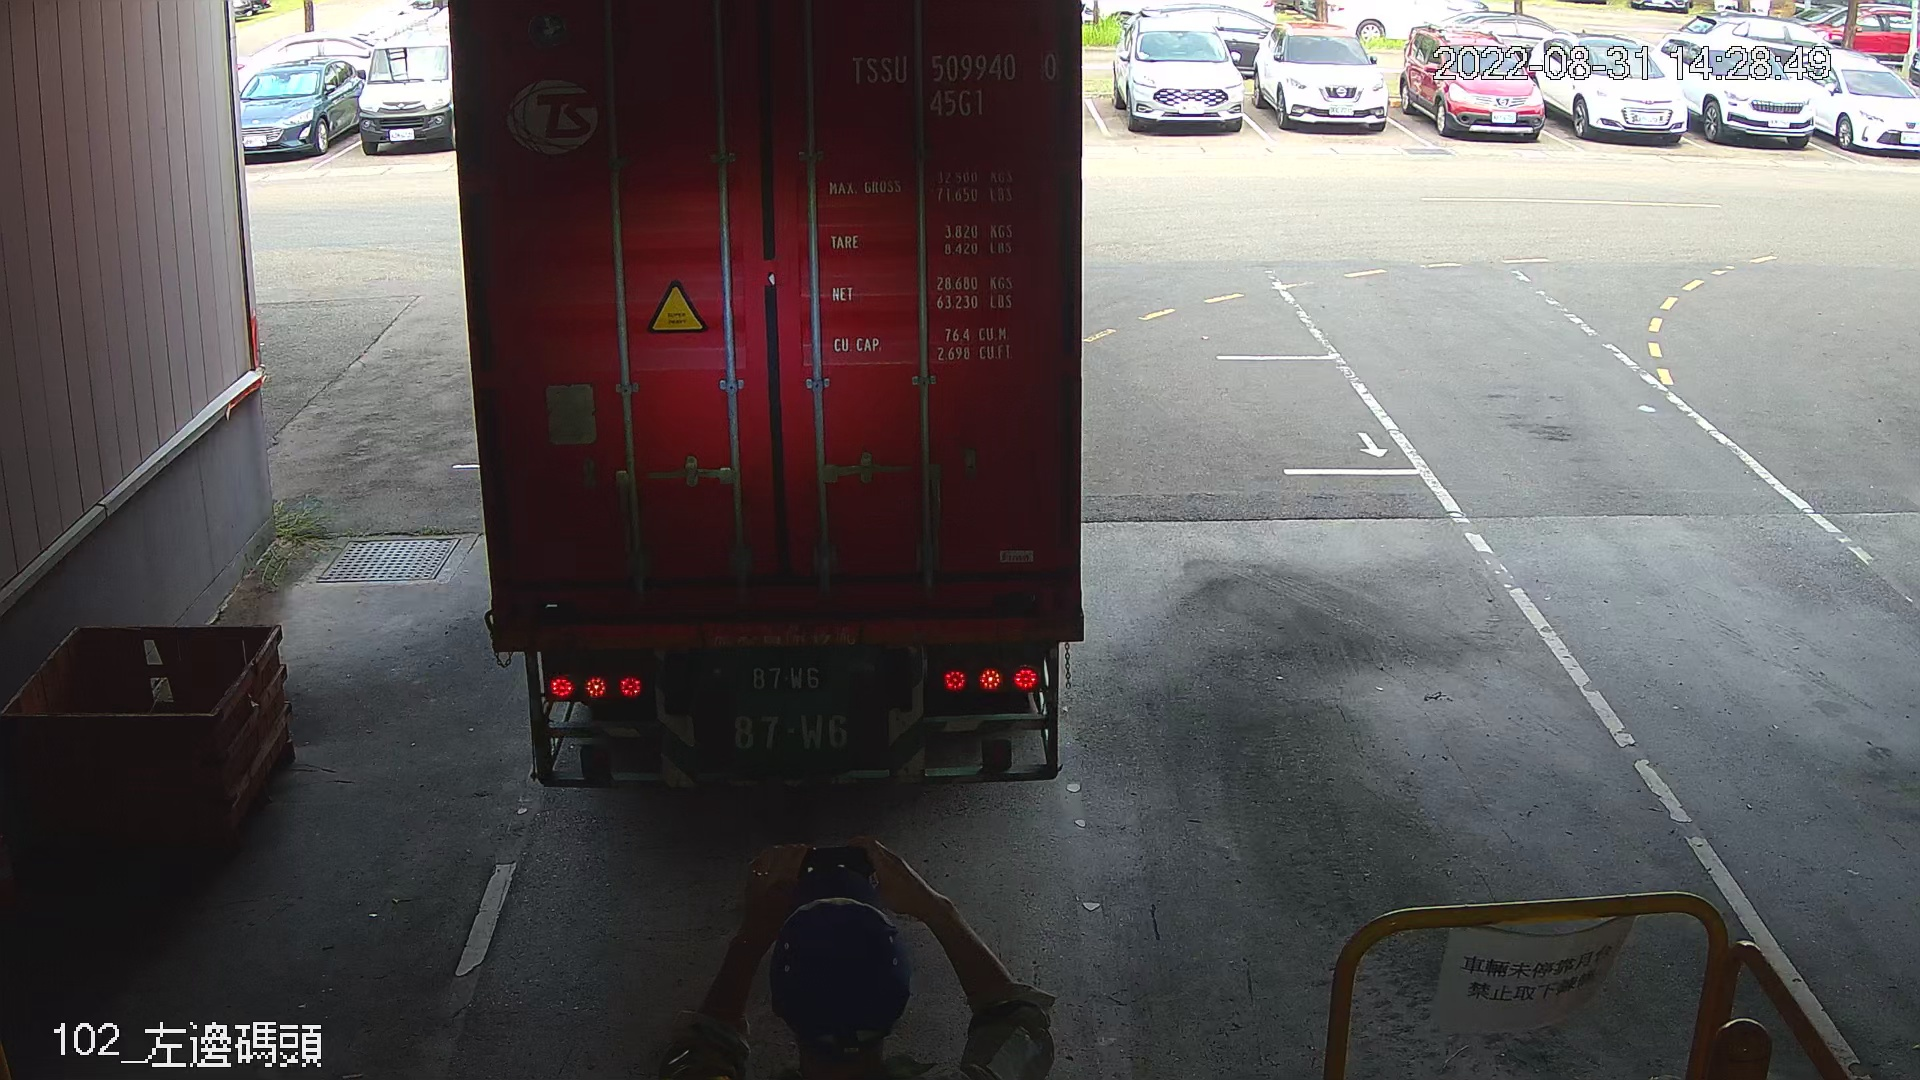container: (841, 41, 1069, 127)
